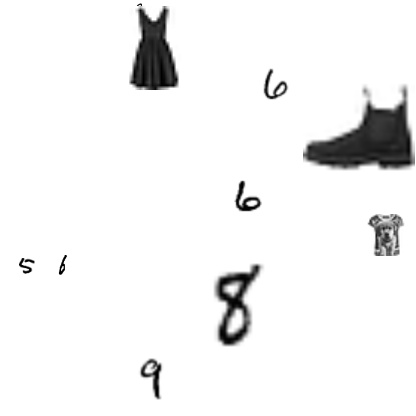5: (15, 254, 37, 276)
6: (252, 66, 294, 108), (224, 178, 266, 220), (48, 251, 76, 279)
8: (179, 245, 291, 357), (131, 1, 145, 15)
9: (125, 347, 181, 403)
Ankle_boot: (303, 69, 415, 181)
Dress: (112, 6, 196, 90)
T-shirt/top: (365, 214, 407, 256)
